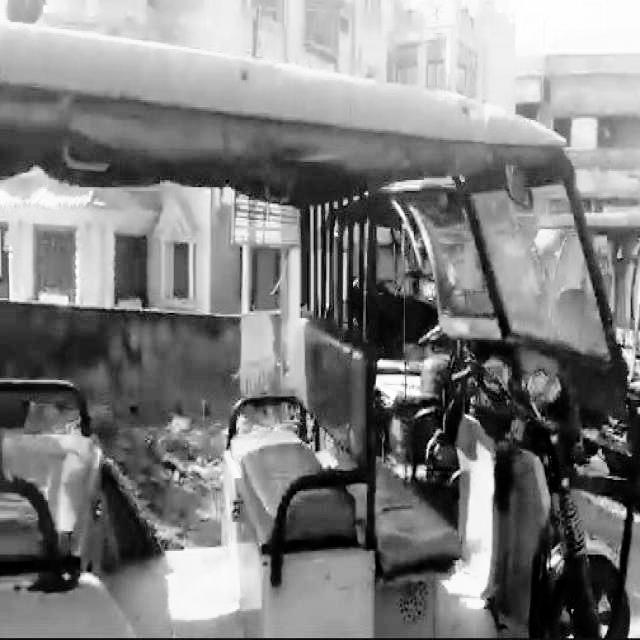Toto: (3, 16, 640, 639)
